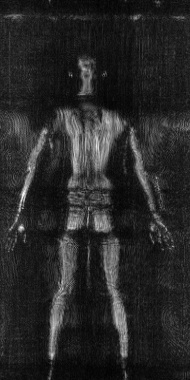gun: (150, 169, 168, 209)
